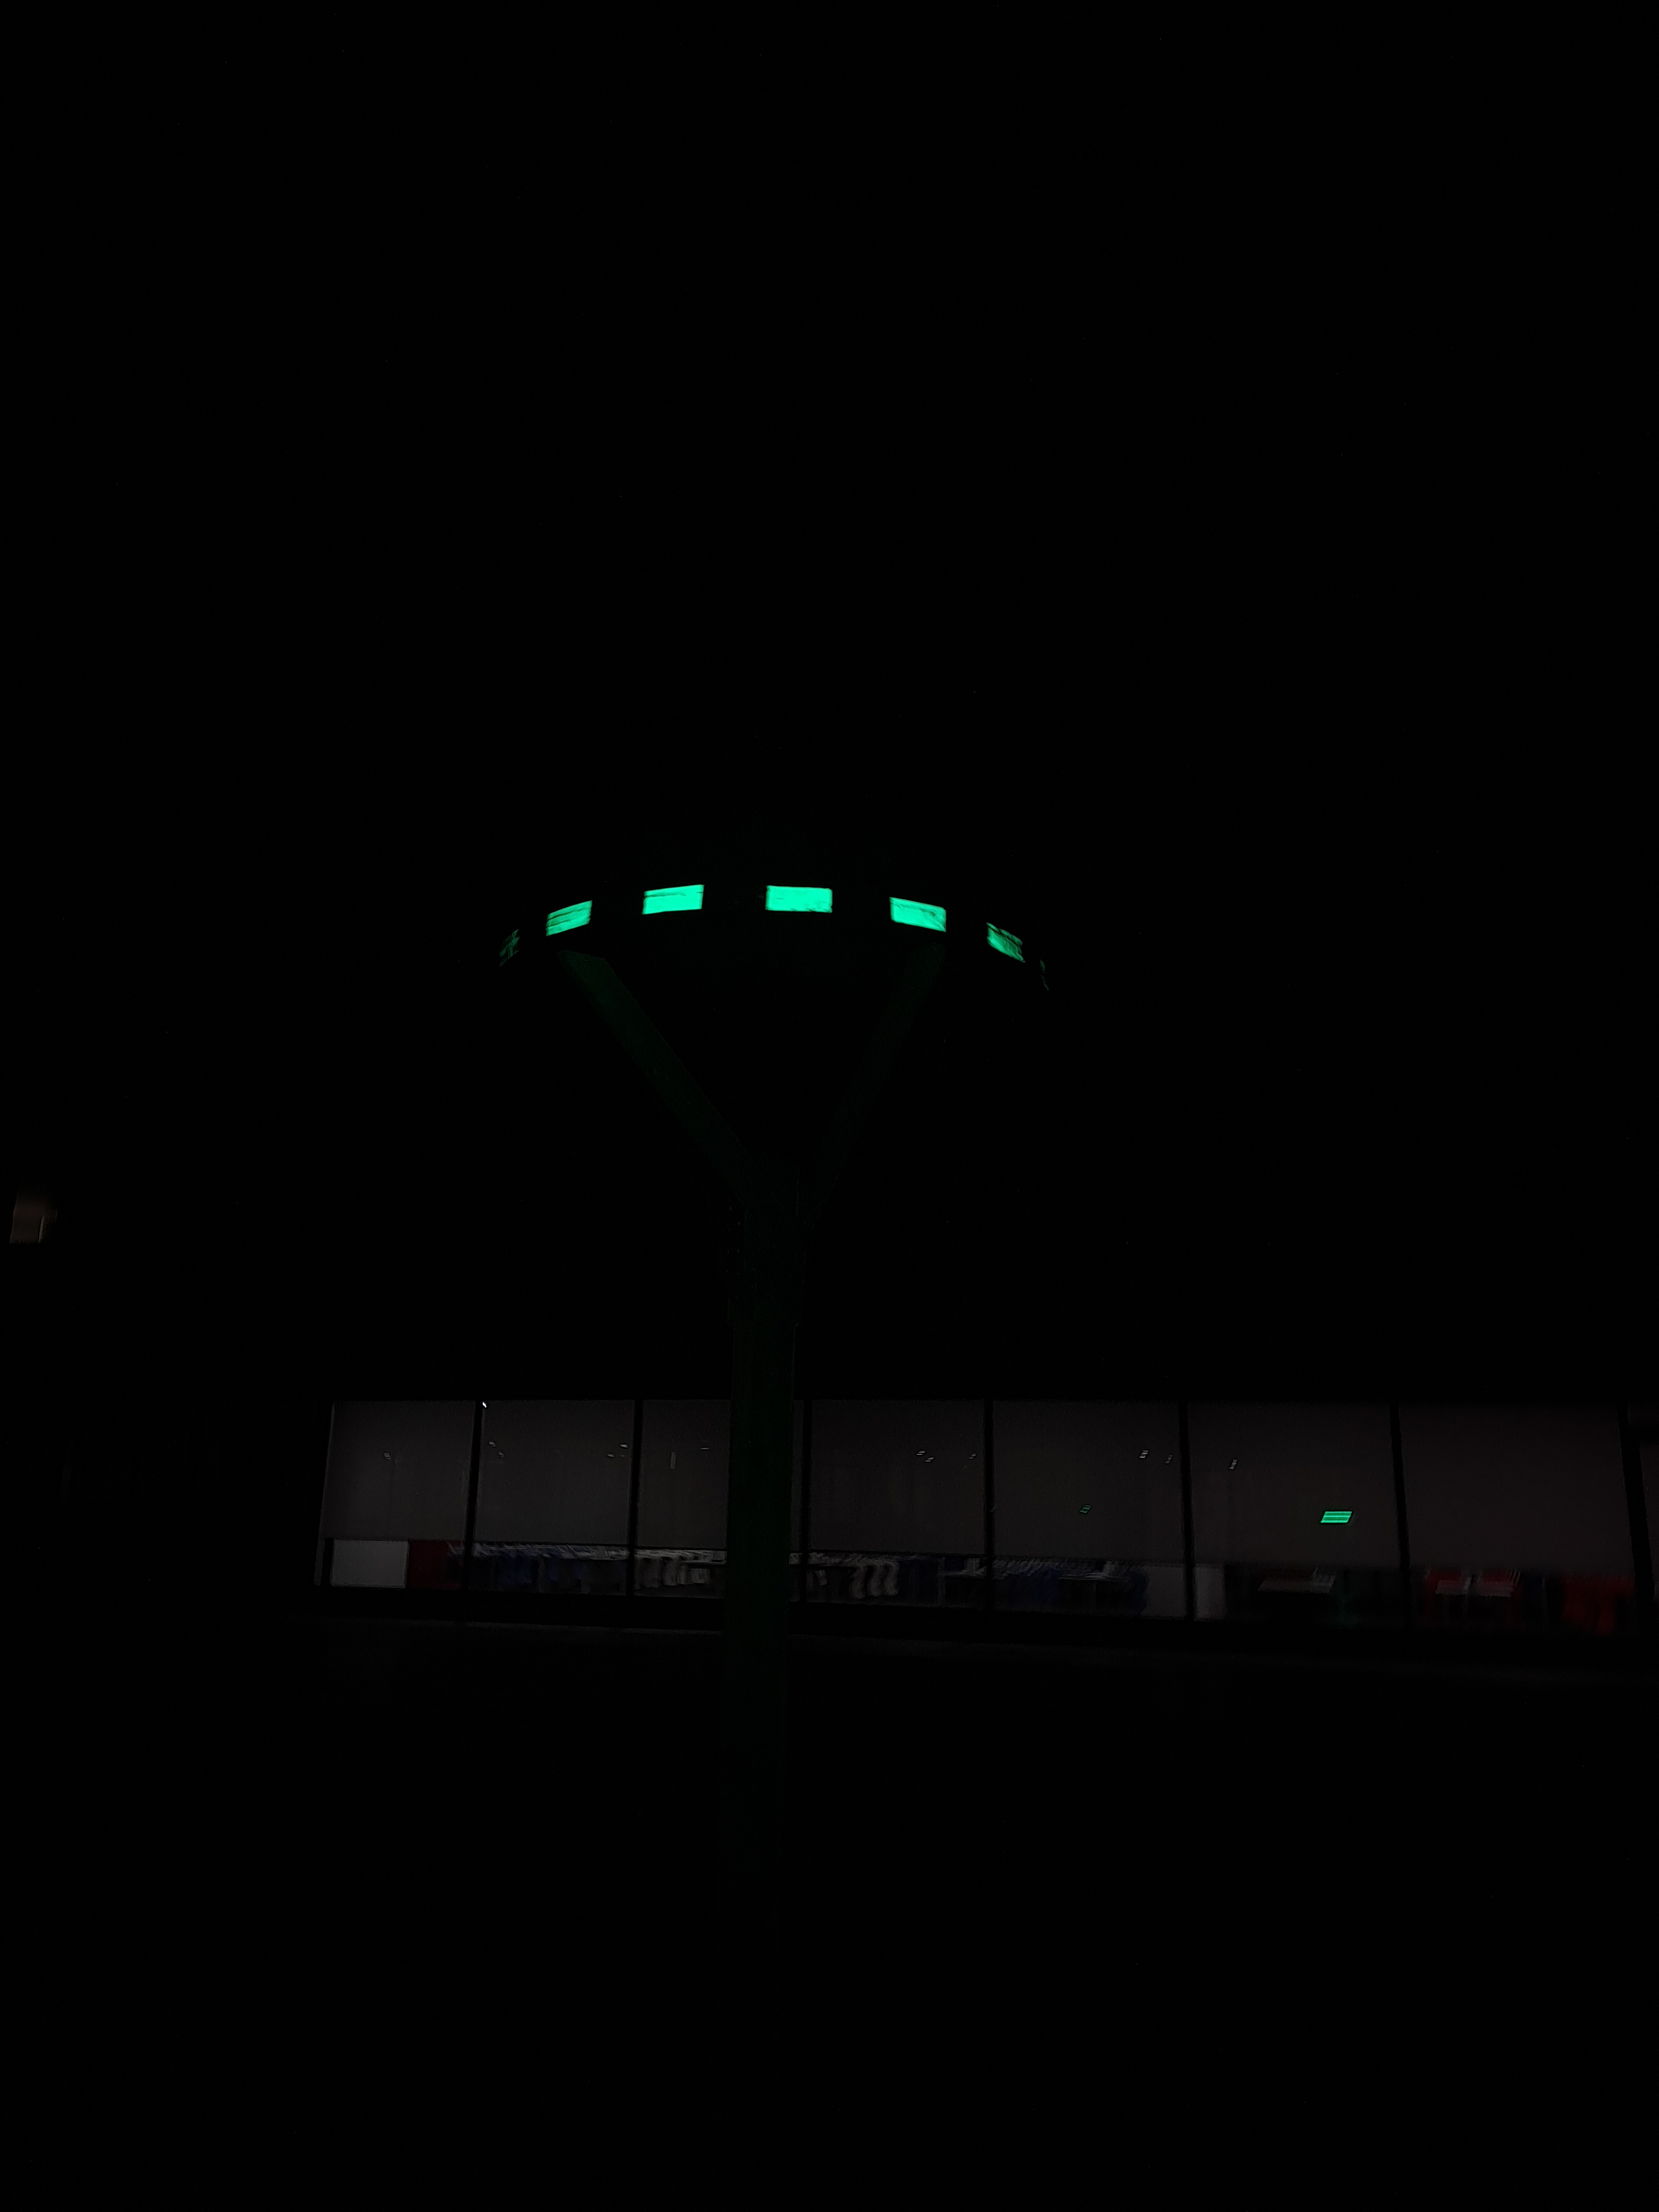hoop: (535, 871, 1032, 967)
